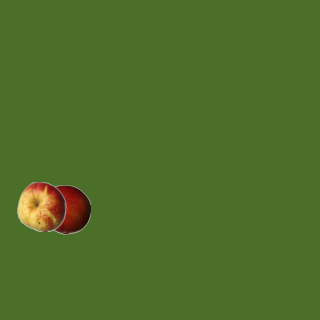Apple Braeburn: (40, 184, 90, 234)
Apple Red Yellow 1: (16, 181, 66, 231)
